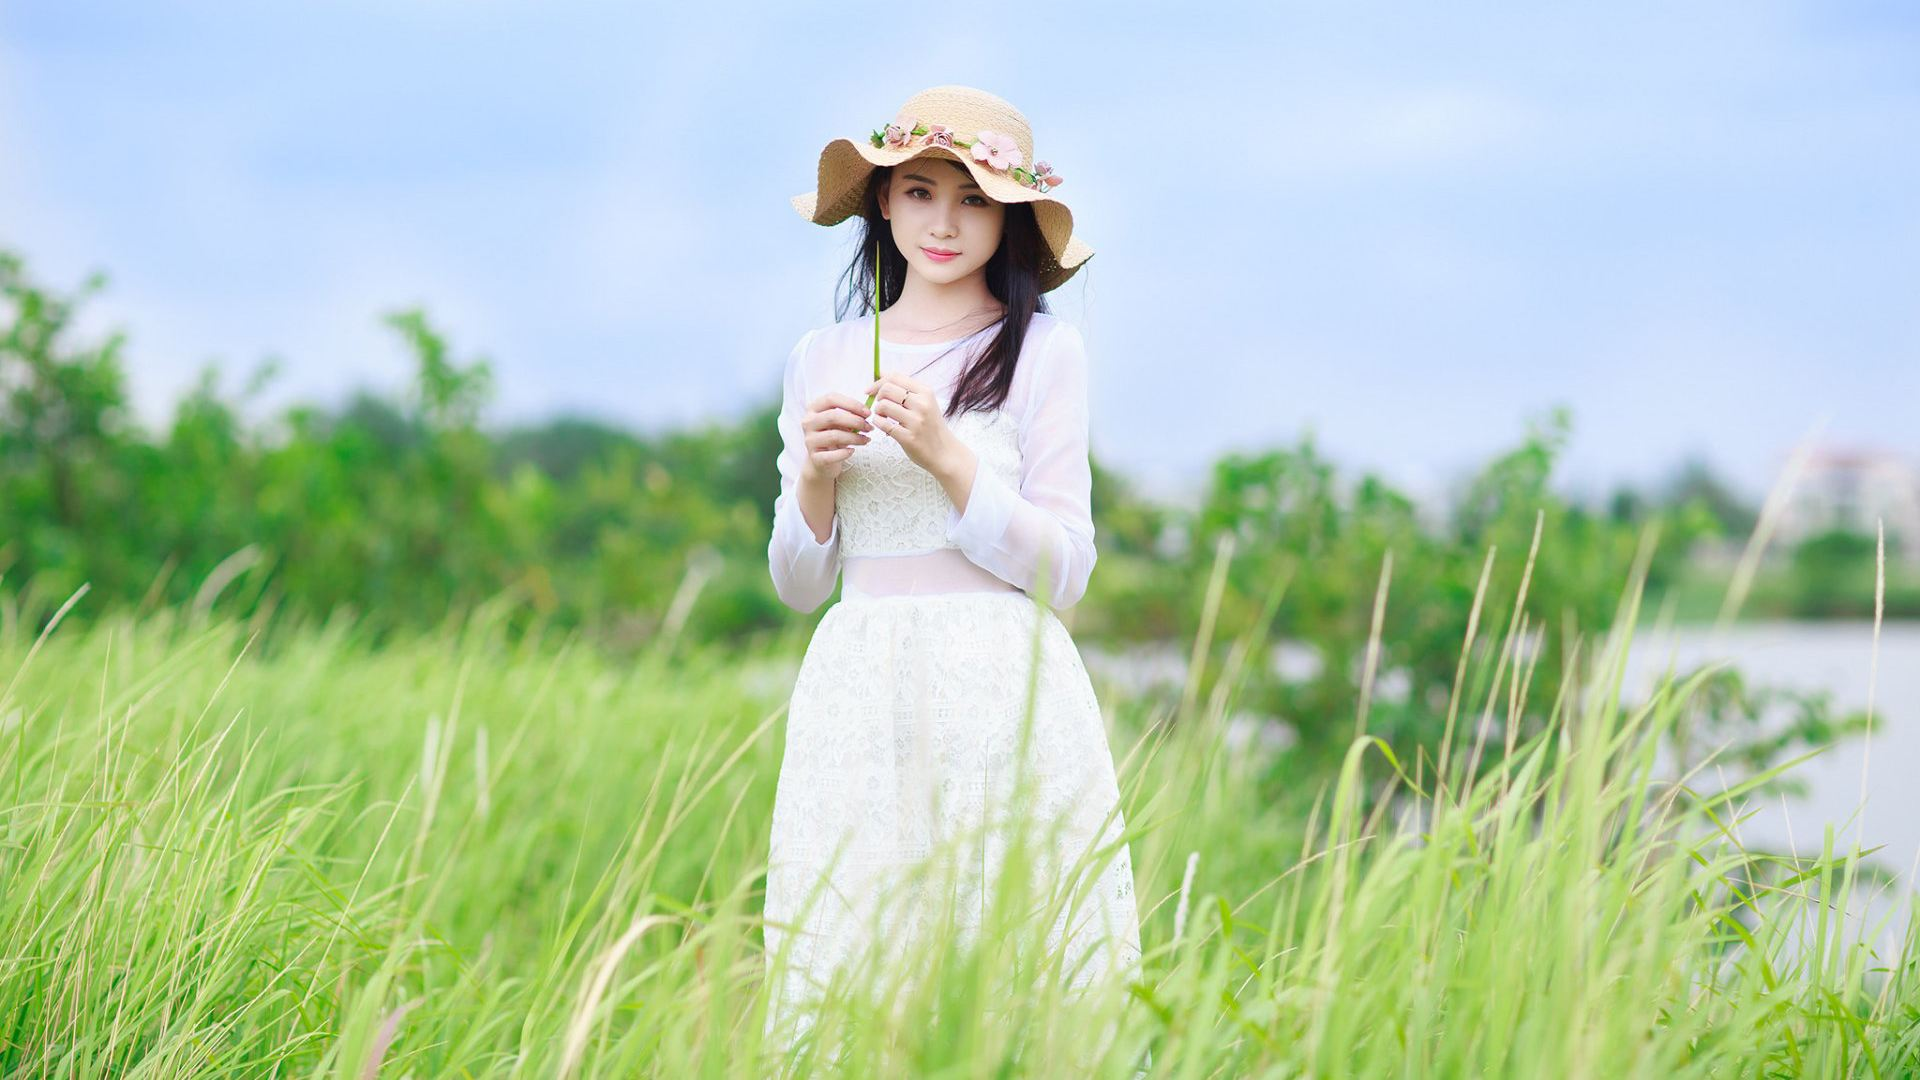person: (787, 106, 1305, 1016)
